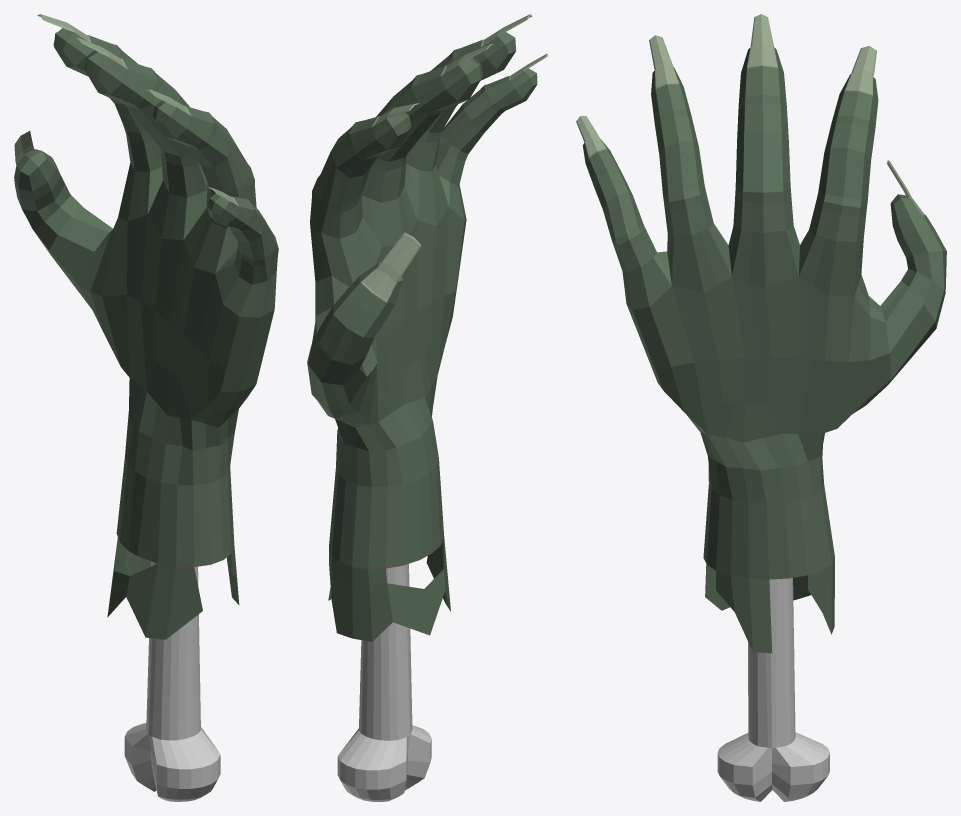
File: ZombieHandNails_NoDirt.fbx
The picture shows the model from 3 angles, left to right: view 1: azimuth 30°, elevation 25°; view 2: azimuth 150°, elevation 25°; view 3: azimuth 270°, elevation 25°; orthographic projection. The views are drawn at different scales.
Parts seen in each view (by area): view 1: Bone hand but ooooh nails; view 2: Bone hand but ooooh nails; view 3: Bone hand but ooooh nails.
Boxes of the visible parts, left/top/right/bottom form: Bone hand but ooooh nails: left=14, top=14, right=278, bottom=801; Bone hand but ooooh nails: left=307, top=14, right=547, bottom=801; Bone hand but ooooh nails: left=576, top=14, right=946, bottom=801.
Size of the model in its own units: 109 by 509 by 233.
